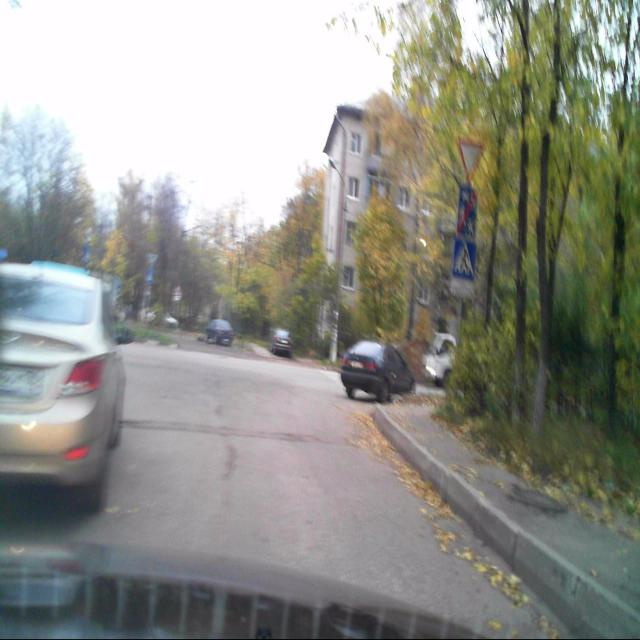road sign: (458, 136, 484, 183), (457, 187, 476, 236), (454, 240, 476, 279)
